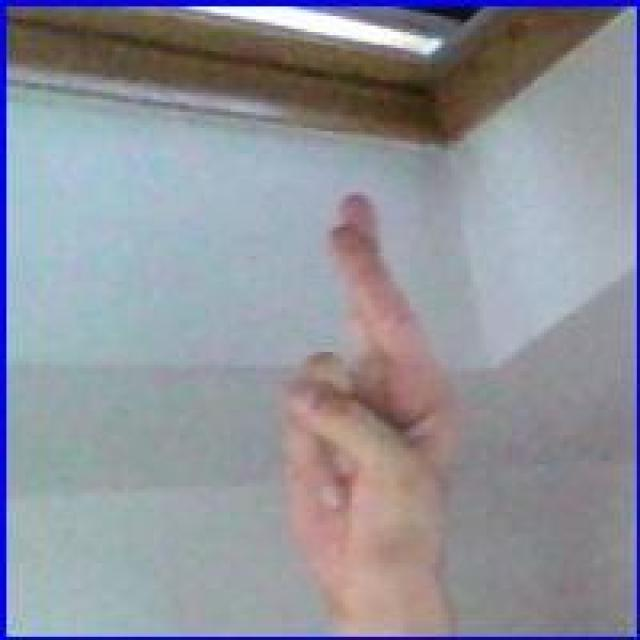R: (275, 185, 461, 572)
